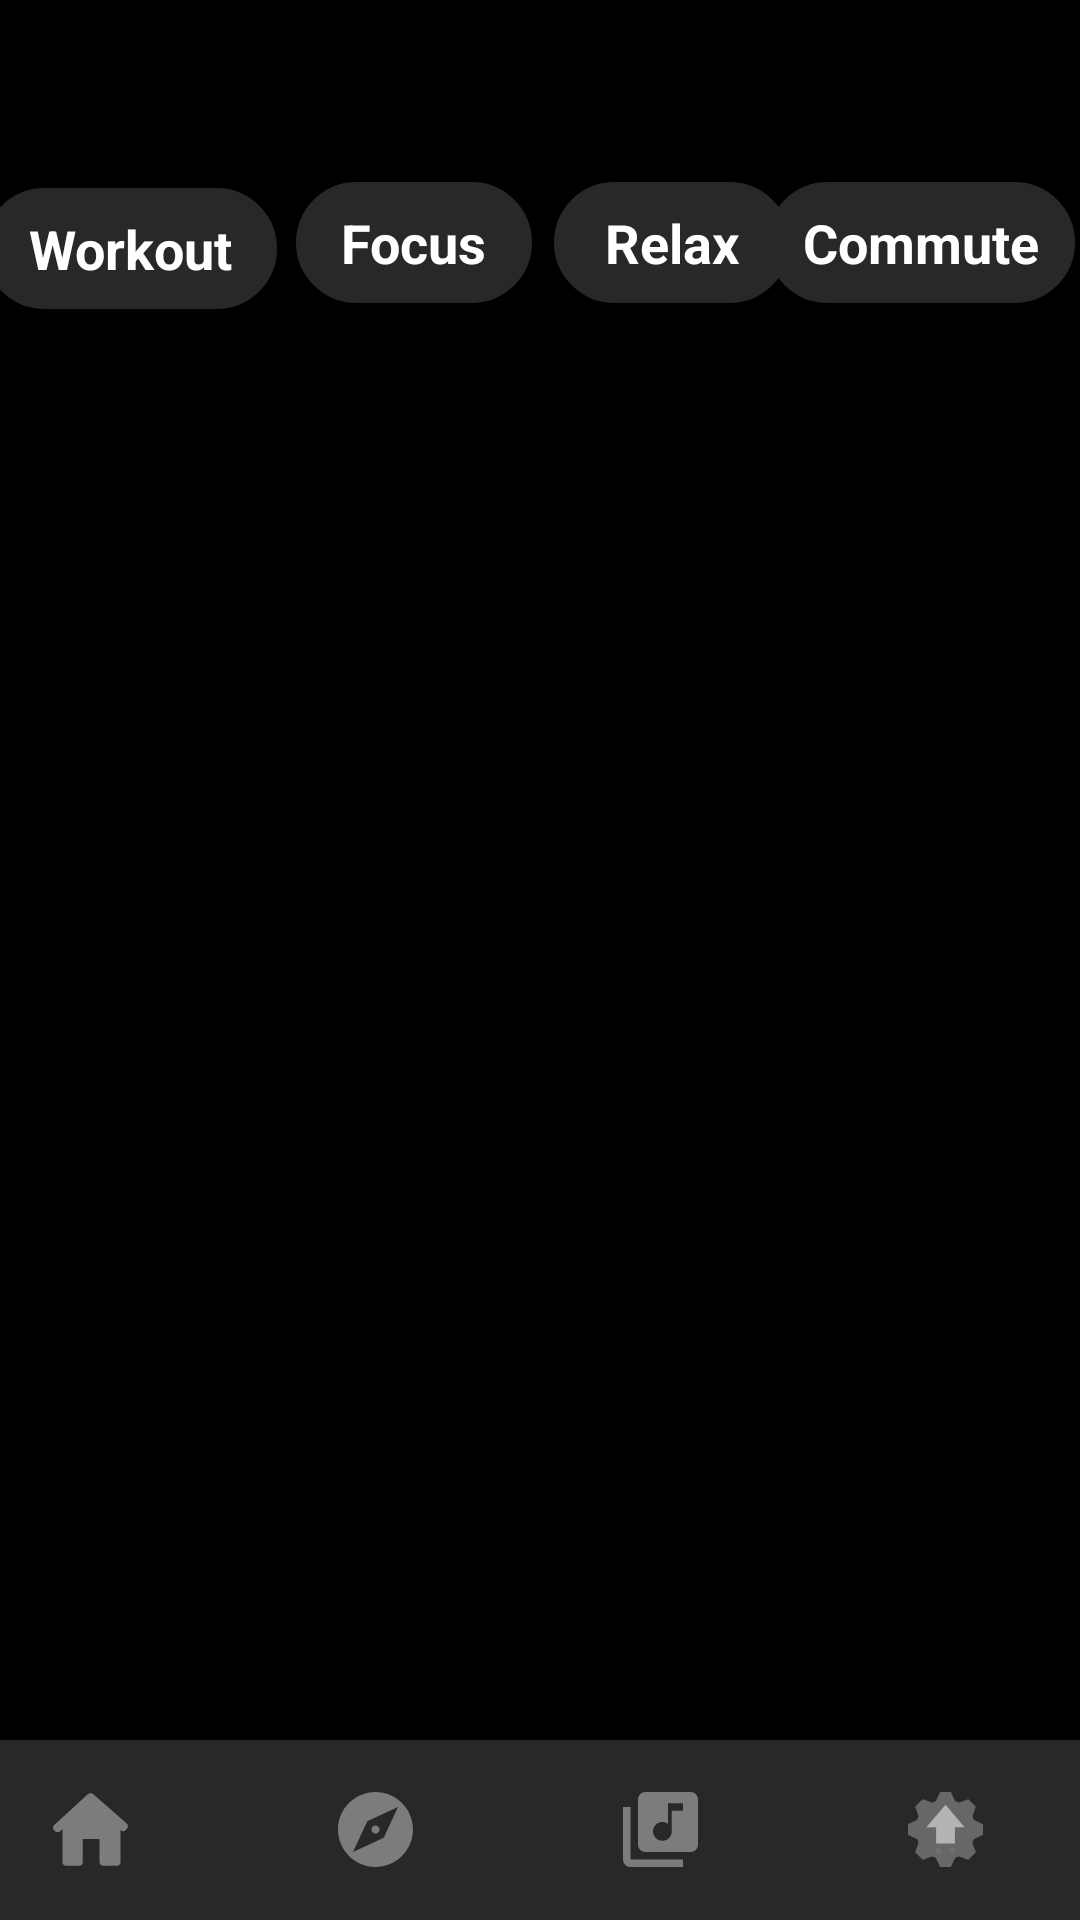

Where to tap for icons on this 1080px×1920px app screen, as (x=x, y=y):
explore: (x=375, y=1829)
library: (x=660, y=1829)
system update: (x=945, y=1829)
